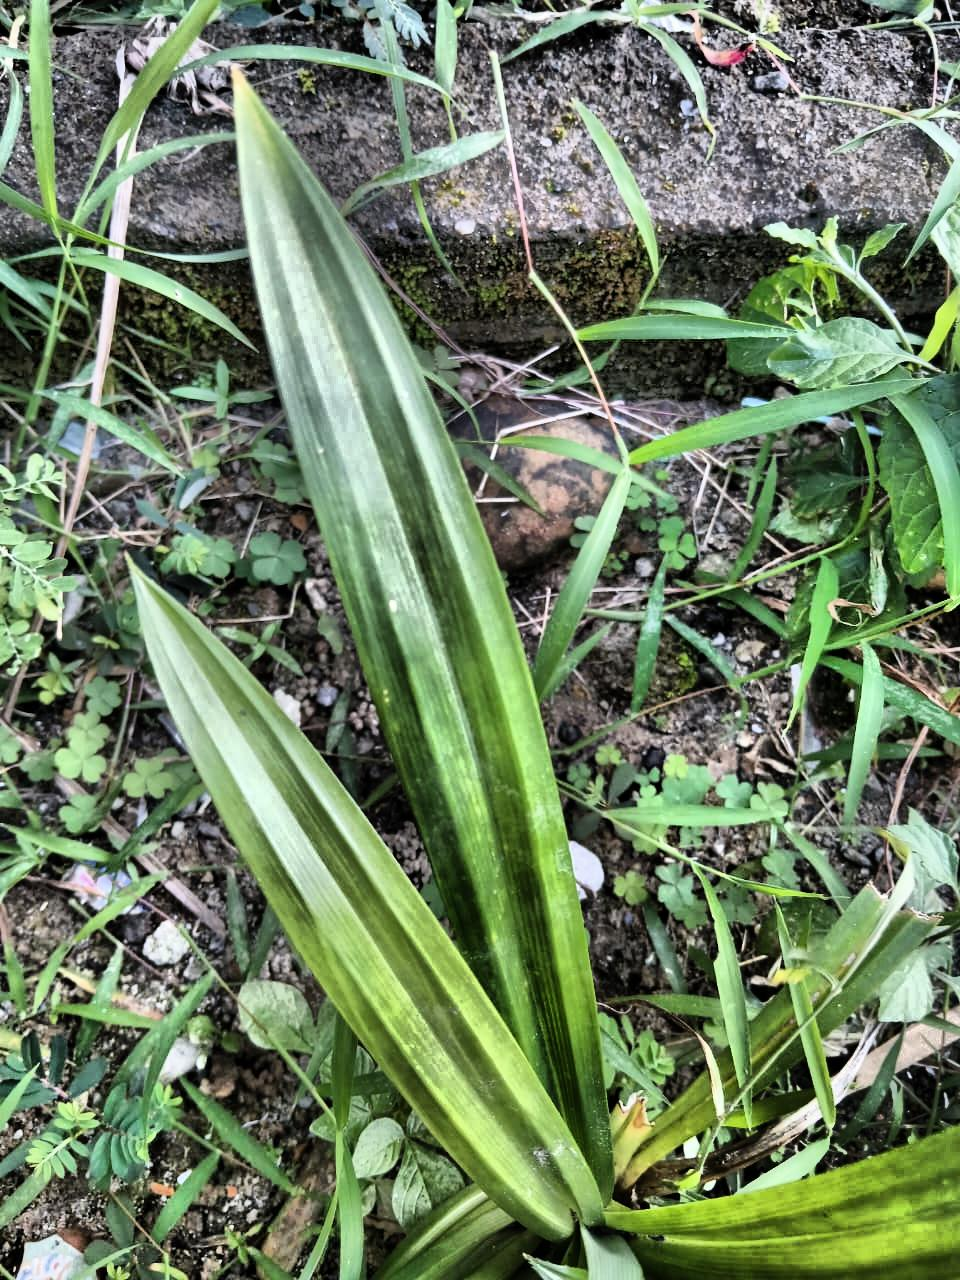daun pandan: (130, 72, 959, 1279)
